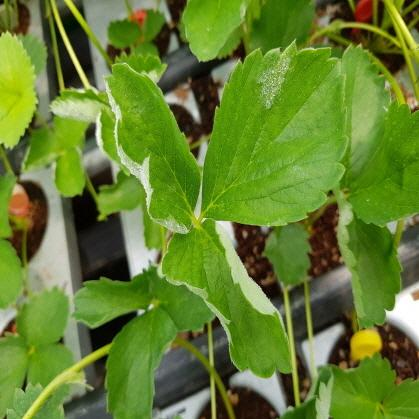Powdery Mildew Leaf: (200, 35, 349, 227), (160, 218, 294, 378), (103, 60, 201, 235), (181, 0, 263, 63), (276, 366, 335, 418), (95, 107, 130, 176), (49, 87, 111, 121)
